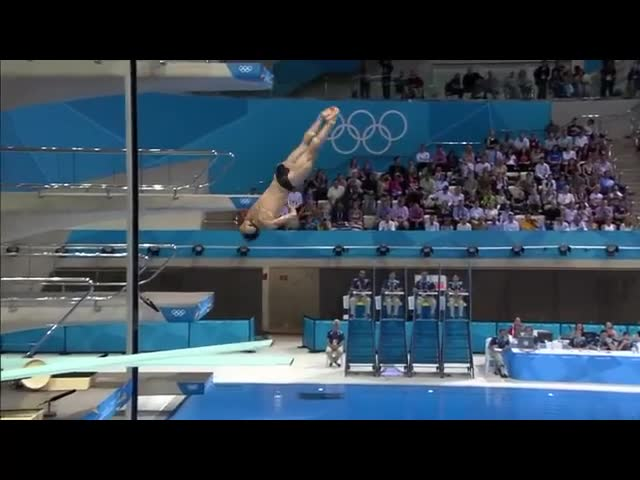diver: (230, 102, 341, 239)
